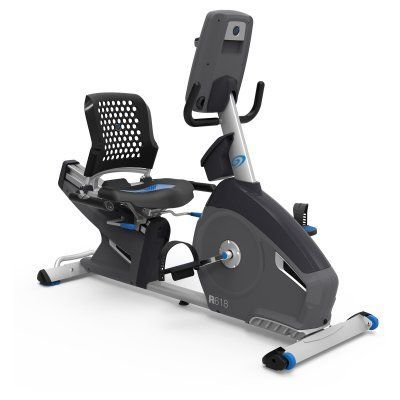gym_bike: (30, 12, 383, 373)
